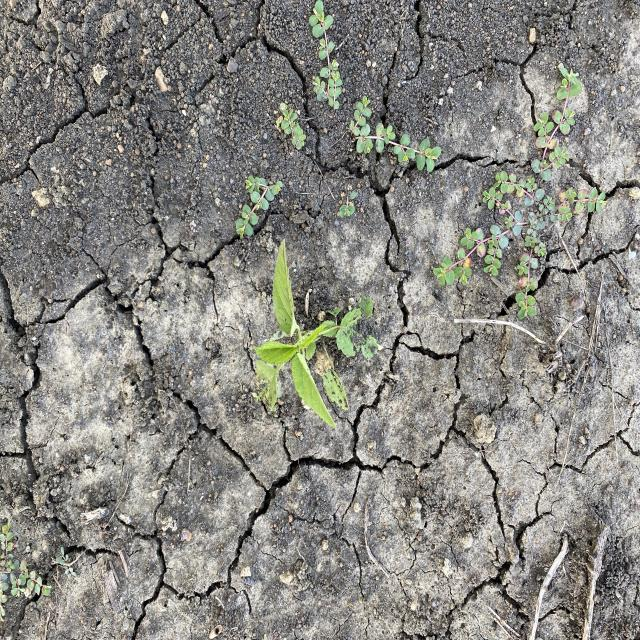PricklySida: (253, 237, 381, 432)
SpottedSpurge: (431, 60, 608, 323), (348, 92, 442, 175), (1, 523, 54, 623), (307, 0, 345, 113), (234, 174, 285, 241), (277, 100, 308, 152), (334, 185, 360, 220), (54, 547, 78, 582)
